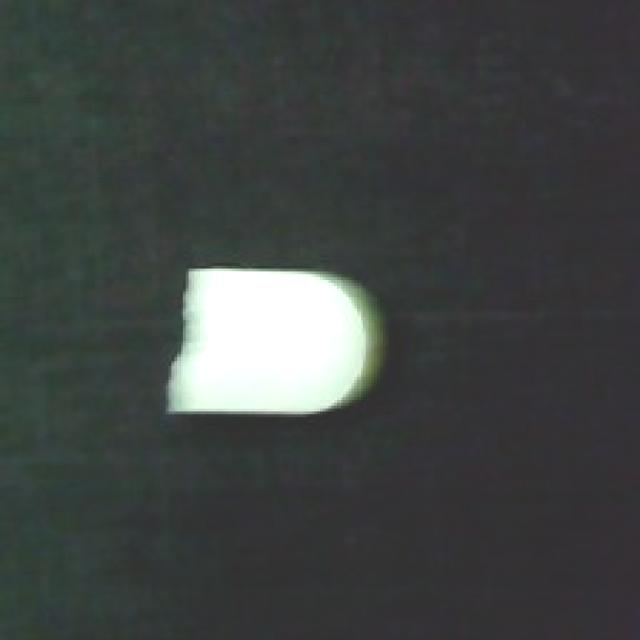defected: (166, 254, 391, 420)
